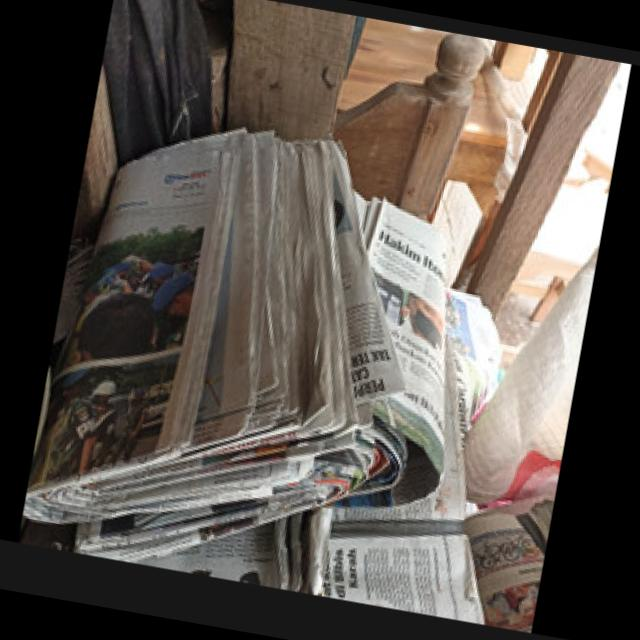Koran: (18, 91, 462, 604)
